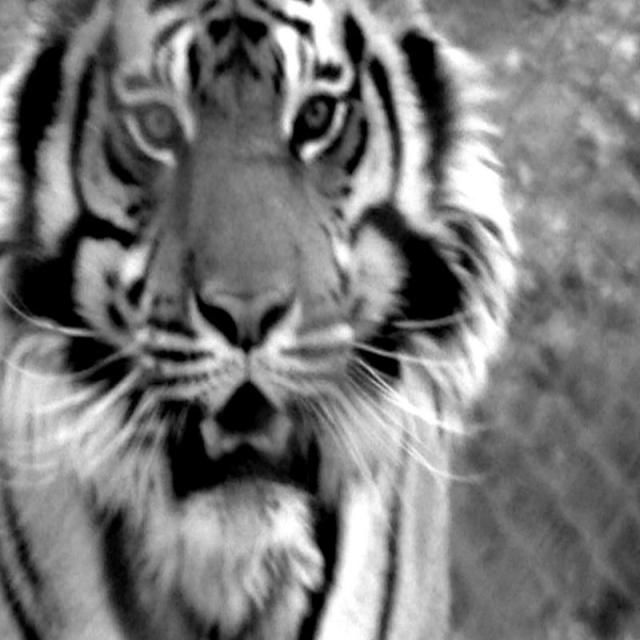Tiger: (18, 6, 468, 554)
